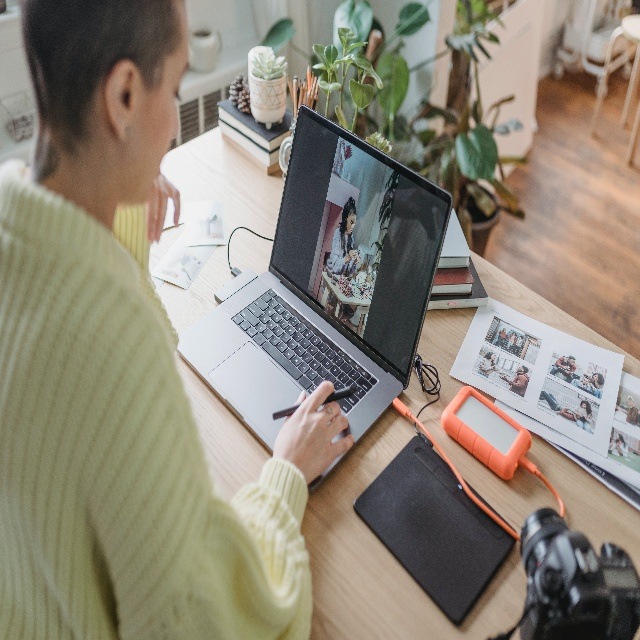Sin_guantes: (272, 380, 354, 484), (146, 171, 180, 243), (348, 249, 357, 260), (354, 254, 361, 264)
